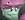with_mask: (1, 1, 25, 20)
